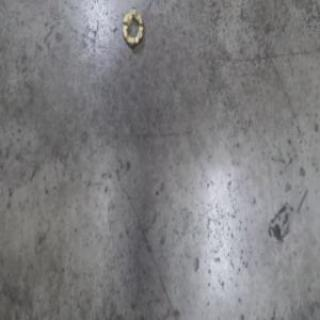Nuttrack_idkeyframe: (121, 7, 144, 48)
